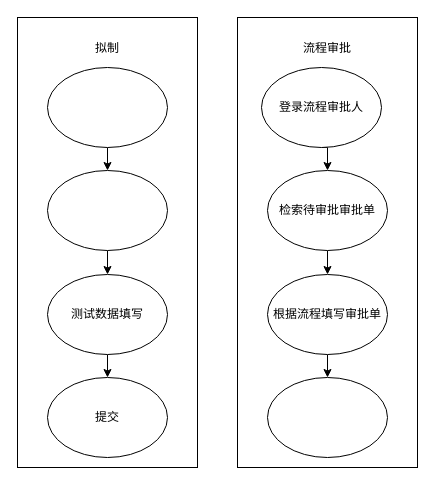
The diagram is 435 pixels wide and 485 high, and some of its shapes have lost their labels. Each missing label, with the centre of its shape:
"前置步骤 测试数据清理" belongs at (107,107).
"审批" belongs at (327,417).
"登录流程发起人账号" belongs at (107,210).
